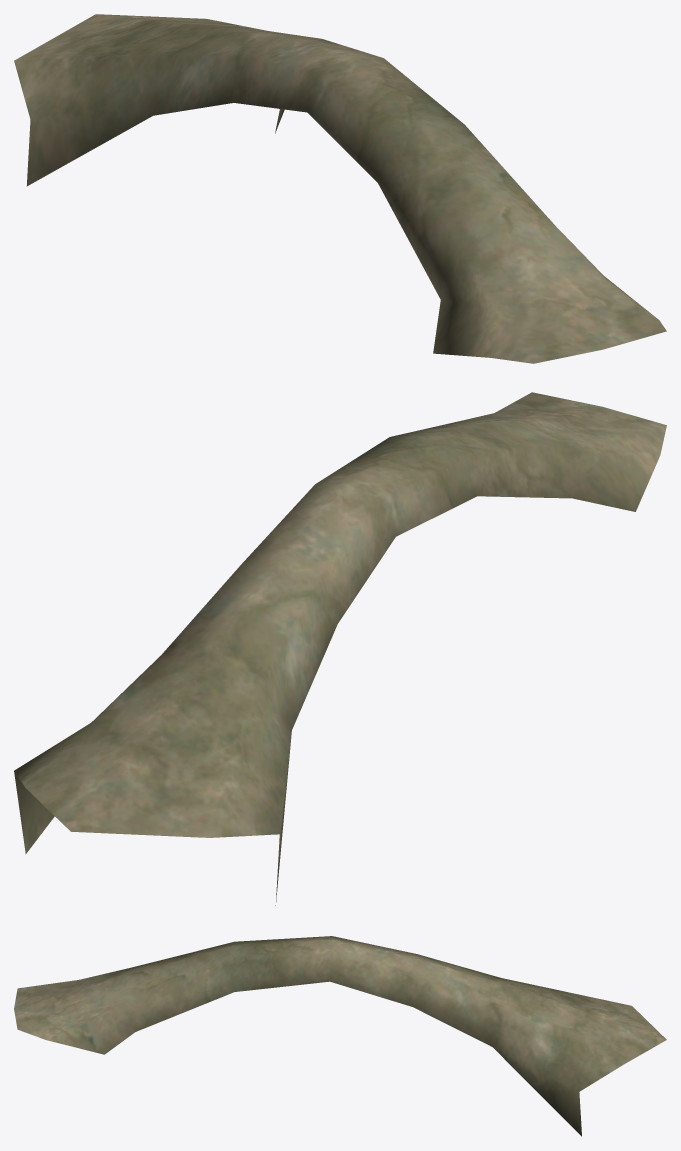
Rendered from EKH_CAVERNS_PS_CA_PLAT54547.fbx.
3 renders of one model, top to bottom at view 1: azimuth 30°, elevation 25°; view 2: azimuth 150°, elevation 25°; view 3: azimuth 270°, elevation 25°, orthographic. The views are drawn at different scales.
Parts seen in each view (by area): view 1: EKH_CAVERNS_PS_CA_PLAT54547; view 2: EKH_CAVERNS_PS_CA_PLAT54547; view 3: EKH_CAVERNS_PS_CA_PLAT54547.
Boxes of the visible parts, bbox=[...] form: EKH_CAVERNS_PS_CA_PLAT54547: bbox=[14, 14, 666, 363]; EKH_CAVERNS_PS_CA_PLAT54547: bbox=[14, 392, 666, 905]; EKH_CAVERNS_PS_CA_PLAT54547: bbox=[14, 936, 666, 1136].
Size of the model in its own units: 20173 by 18513 by 69005.
1 material, 1 textured.
